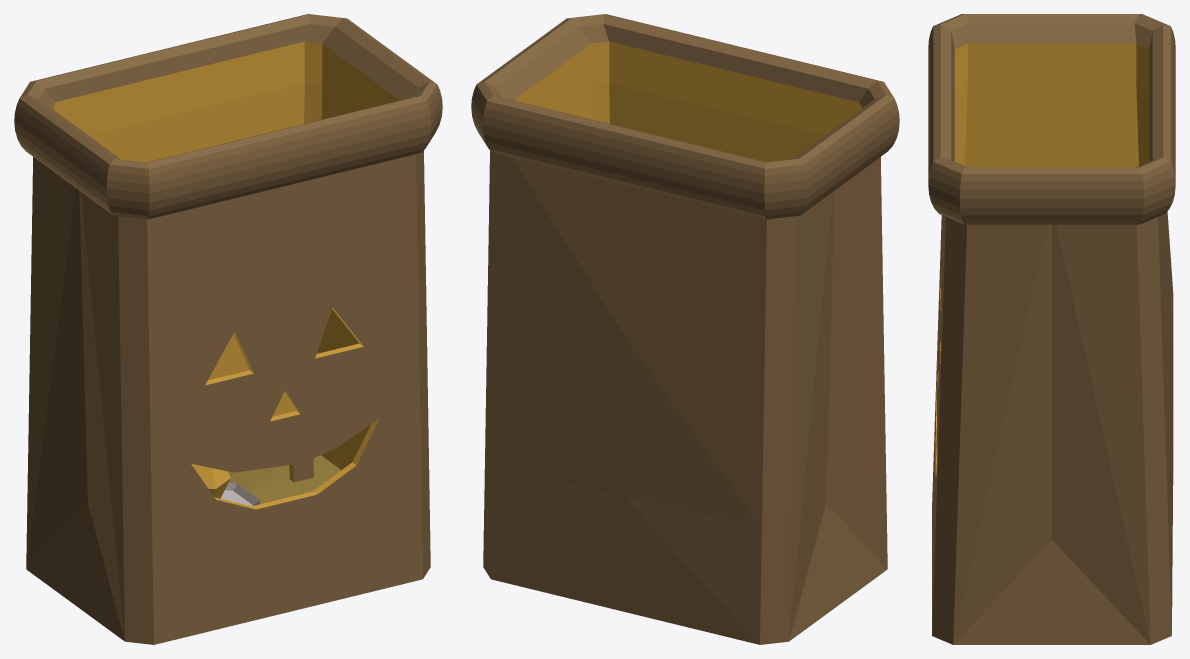
Rendered from paper-bag-luminaria-0e8a1a.glb.
3 views of the same model, side by side, from view 1: azimuth 30°, elevation 25°; view 2: azimuth 150°, elevation 25°; view 3: azimuth 270°, elevation 25° (orthographic).
Parts seen in each view (by area): view 1: luminaria-bag; view 2: luminaria-bag; view 3: luminaria-bag.
Part boxes in pixels (x1,y1,x2,y2): luminaria-bag: [14, 14, 442, 644]; luminaria-bag: [471, 14, 899, 644]; luminaria-bag: [928, 14, 1175, 644].
Bounding box in the file's own units: 0.22 × 0.3 × 0.1403.
